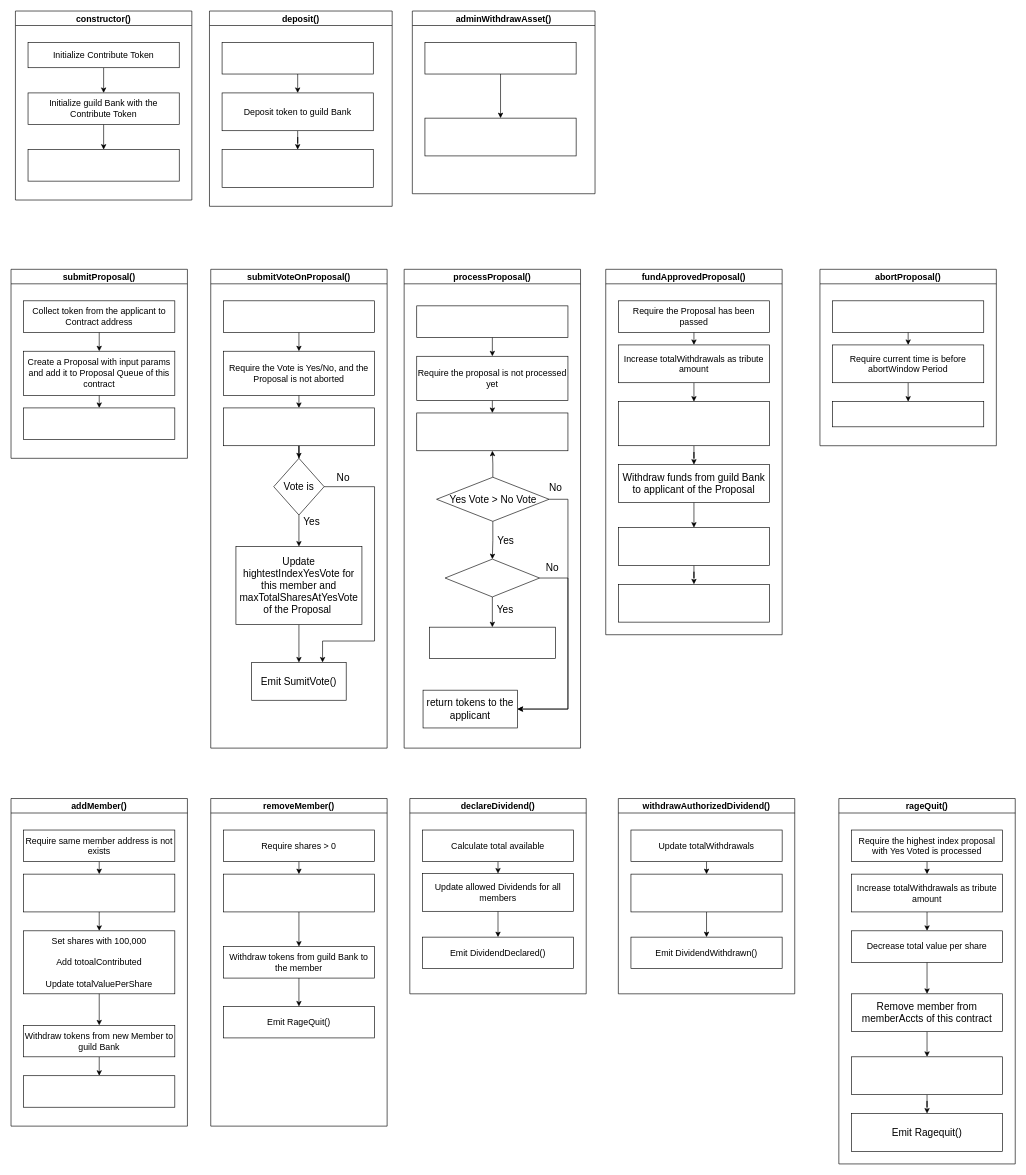
The diagram is 1026 pixels wide and 1175 high, and some of its shapes have lost their labels. The shapes that lost their labels are listed below. From the top down, each one's centre as x and y in pixels, then its label:
the point at 297,58: Update totalContributed
the point at 500,58: Require asset token is same as contribution token
the point at 500,136: Withdraw tokens from guild Bank to receiver
the point at 103,165: Initialize the States for the Contract
the point at 297,168: Emit Deposit()
the point at 299,316: Require current time is after starting Period of the Proposal
the point at 492,321: Require current time is after voting + grace of the Proposal
the point at 908,316: Require caller is same as applicant of the proposal
the point at 99,423: Emit SumitProposal()
the point at 299,426: Register this Vote to the Proposal with member address
the point at 492,431: Require the previous Proposal is processed
the point at 694,423: Add tributeToken address to equityHoldingAddress of this contract
the point at 908,414: Emit Abort()
the point at 694,546: Deposit tributed tokens to guild Bank
the point at 492,577: dilutionBound
the point at 694,603: Emit ProposalFunded()
the point at 492,643: Emit ProcessProposal()
the point at 99,892: Create a Member instance and add it to the contract
the point at 299,892: Update totalShares Update totoalWithdrawals
the point at 706,892: Withdraw allowed Dividends tokens from guild Bank to this member
the point at 99,1091: Emit MemberAdded()
the point at 927,1075: Withdarw token of the member from guild Bank to the member
